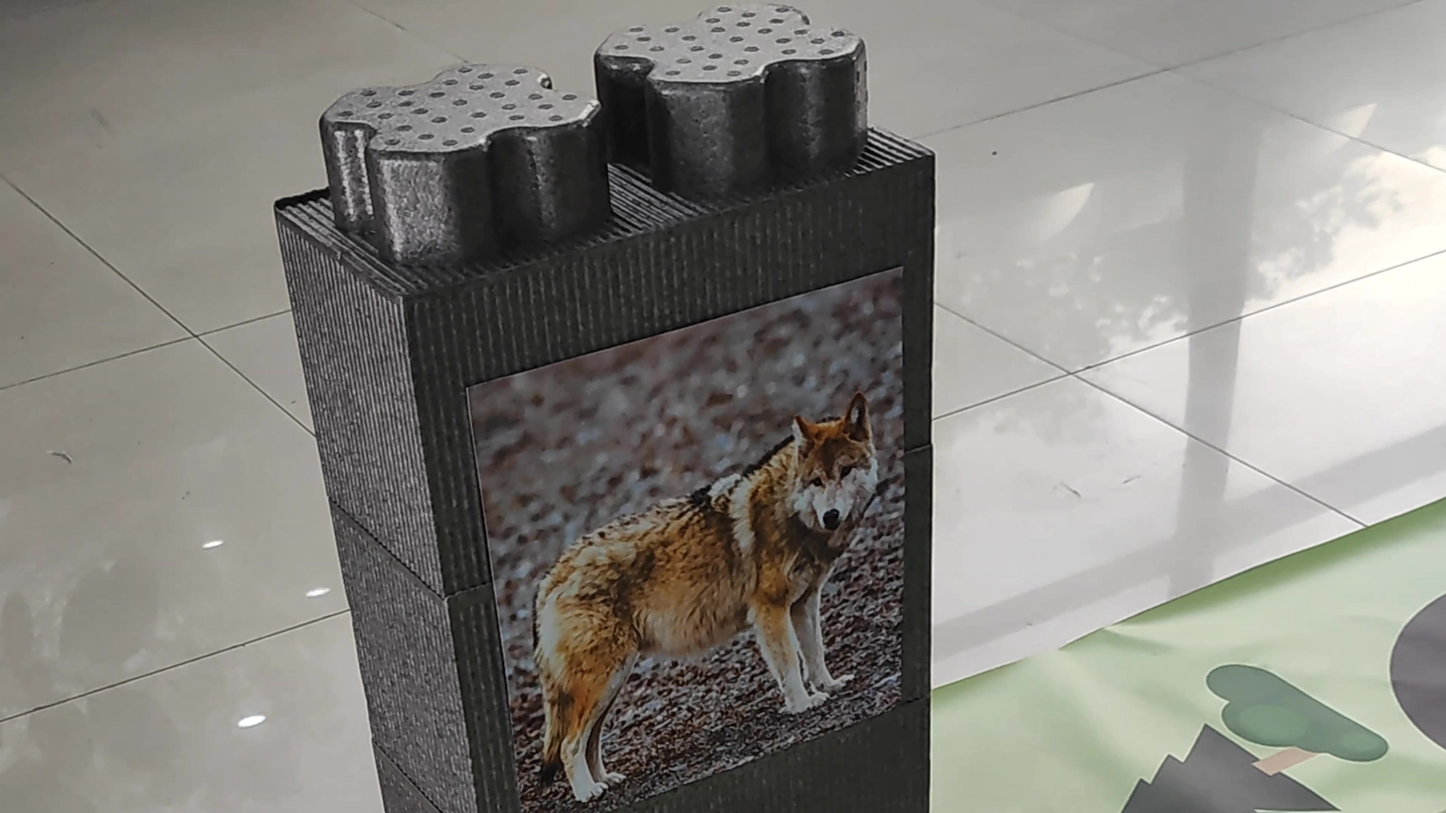wolf: (502, 375, 888, 801)
